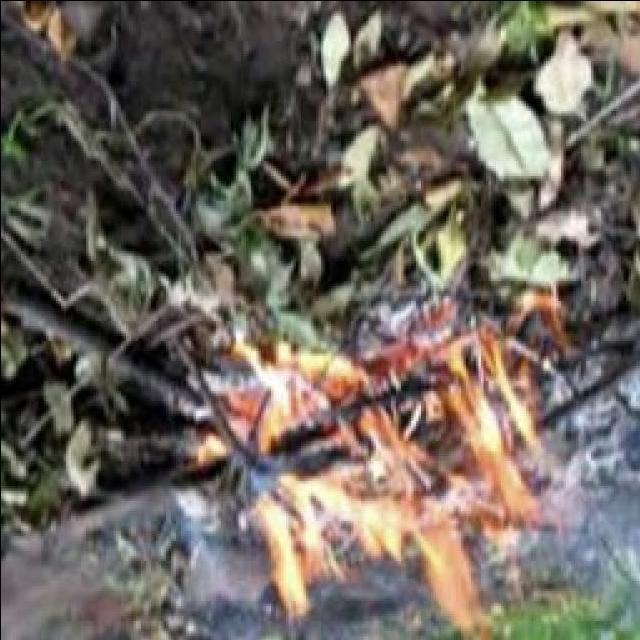Fire: (211, 336, 557, 595)
